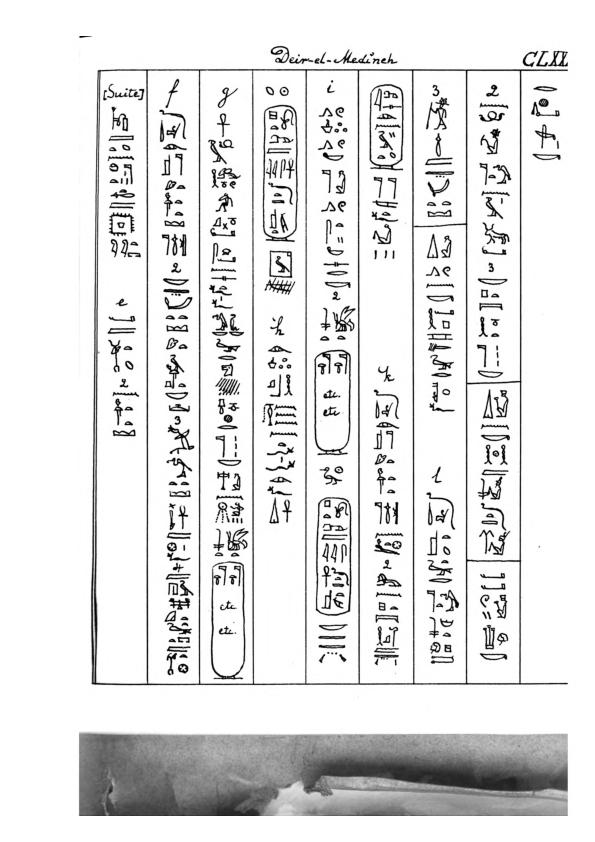circle: (260, 101, 301, 244), (312, 493, 353, 619), (208, 558, 247, 682), (311, 347, 353, 458), (365, 80, 406, 174)
